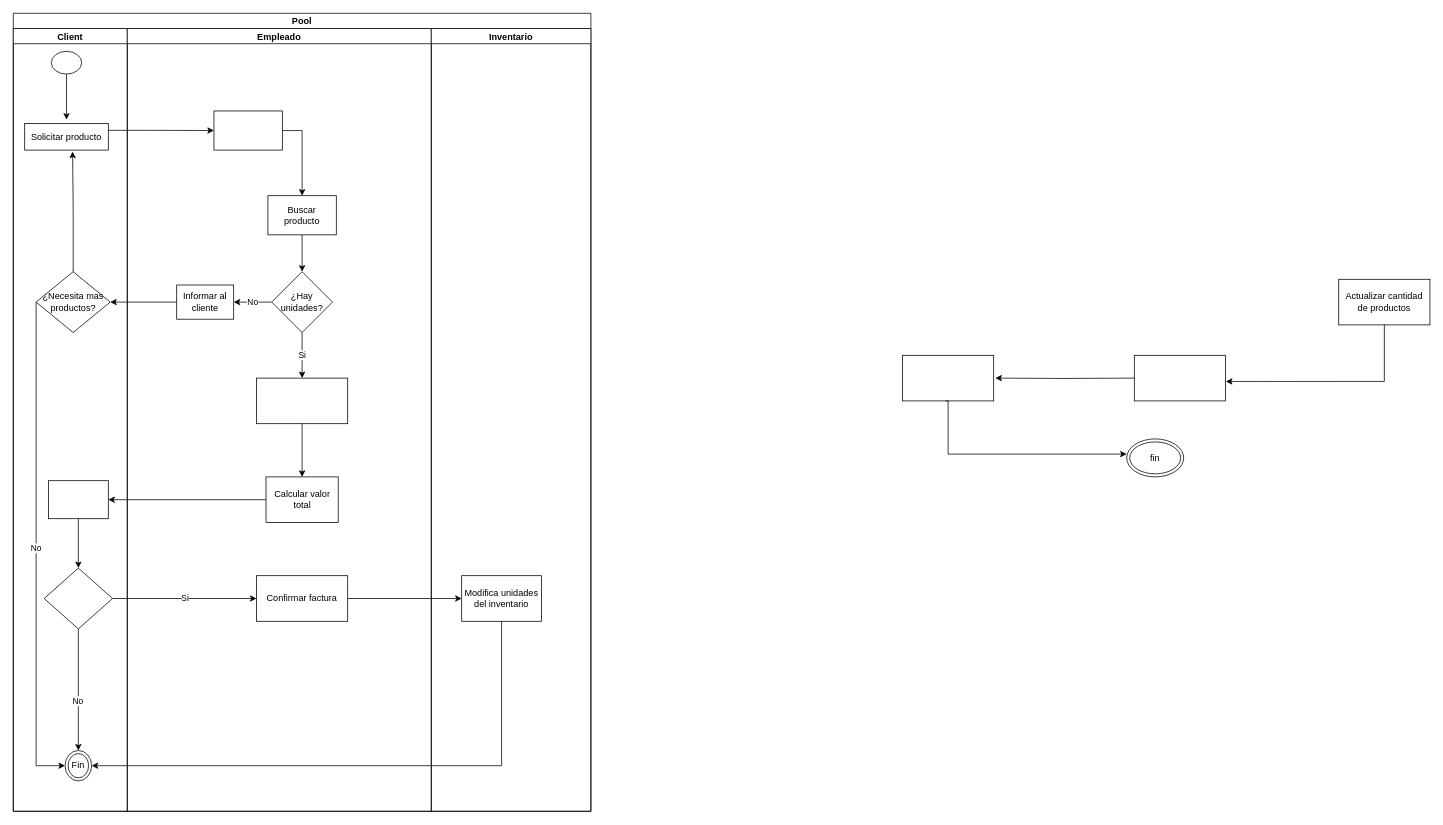
Image size: 1443x825. Some labels were removed from this diagram. The centre of each missing label's shape, as x and y in pixels:
Añadir productos a factura: [302,400]
Imprimir factura: [1180,378]
Ingresar al sistema: [247,130]
Inicio: [66,62]
Obtener factura: [948,378]
Realizar compra: [78,499]
¿Se realizó la venta?: [78,598]
